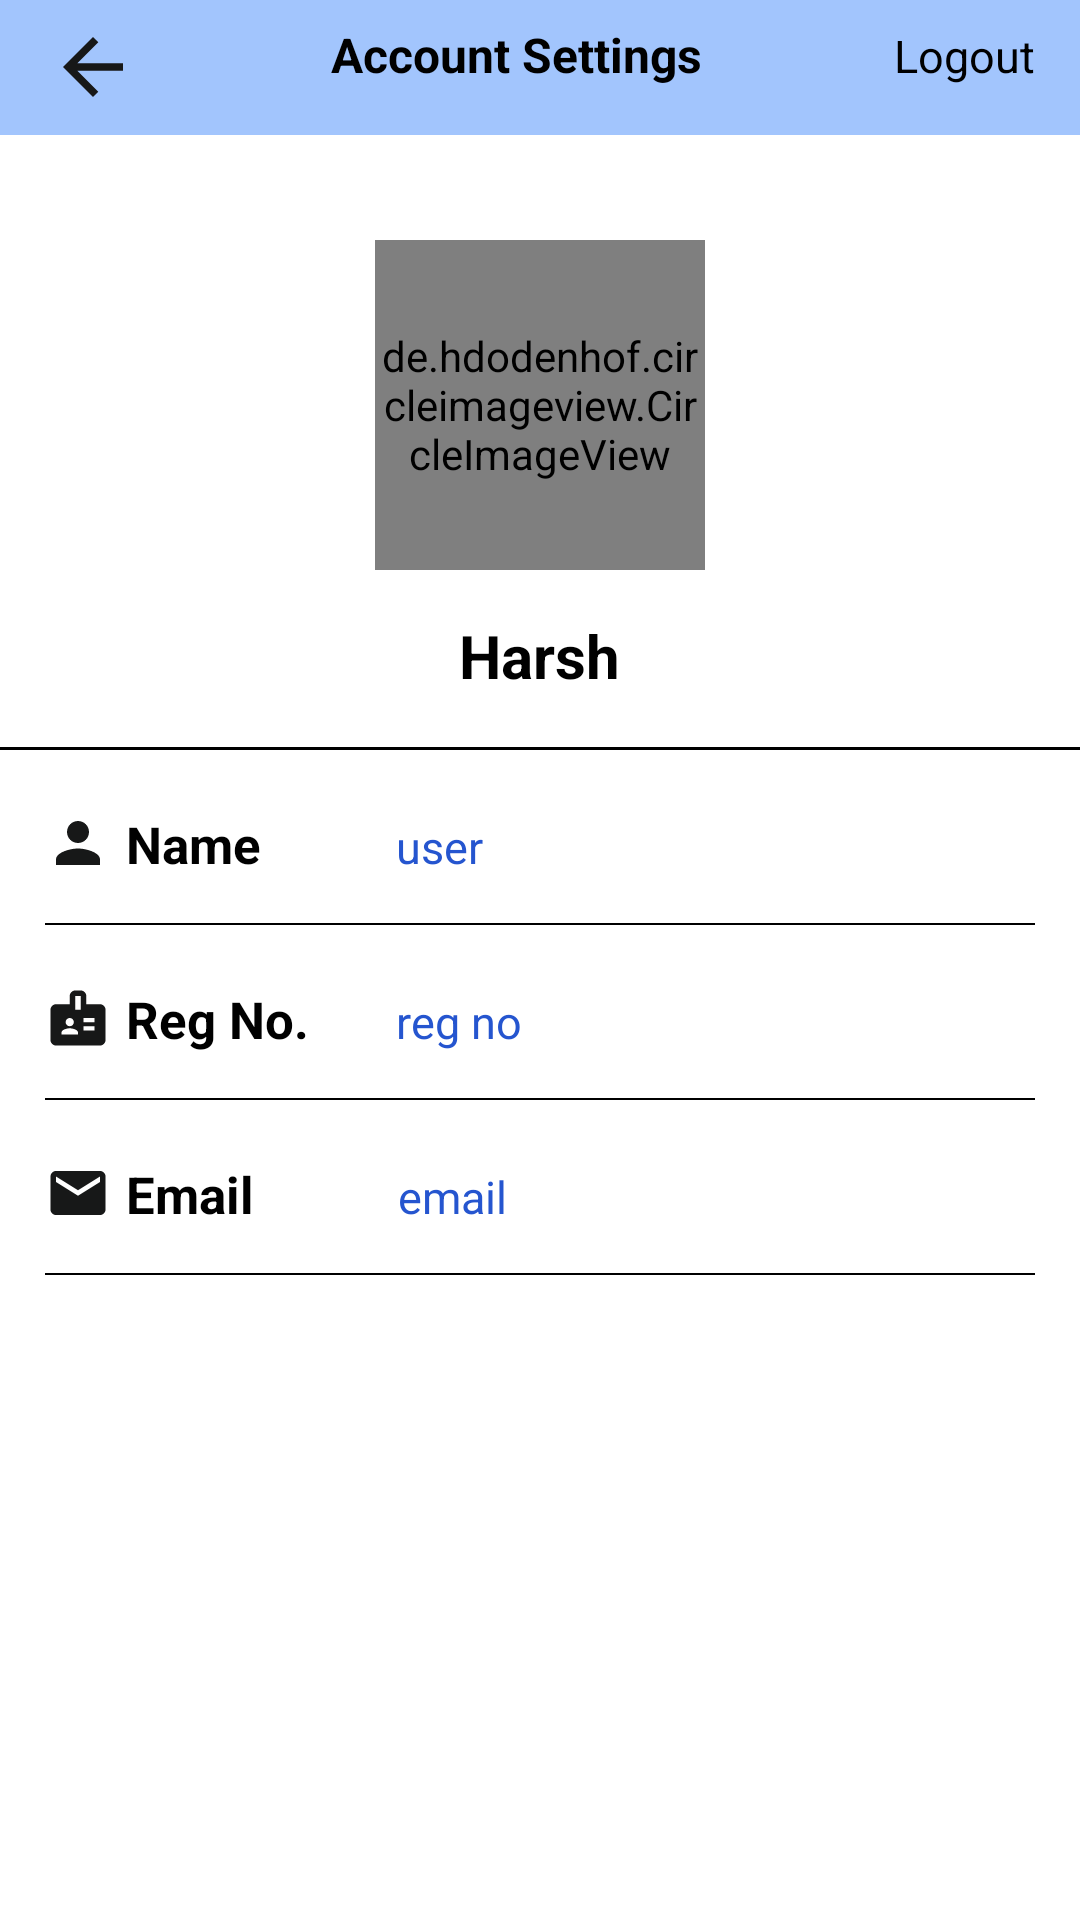

Screen size 1080w x 1920h. Icon name, then its center in pixels as (x=x, y=y):
arrow back: (x=93, y=67)
badge: (x=78, y=1018)
person: (x=78, y=843)
